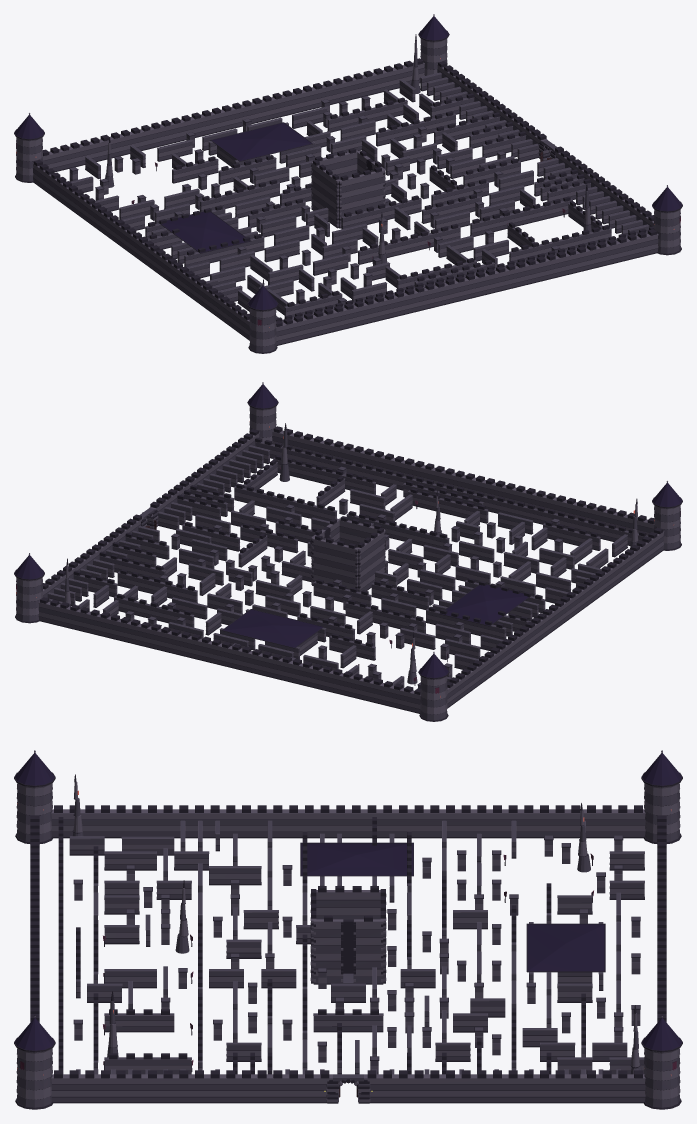
The model's file is castle_cursed.glb.
3 renders of one model, top to bottom at view 1: azimuth 30°, elevation 25°; view 2: azimuth 150°, elevation 25°; view 3: azimuth 270°, elevation 25°, orthographic. The views are drawn at different scales.
Parts seen in each view (by area): view 1: castle_cursed_part_0; view 2: castle_cursed_part_0; view 3: castle_cursed_part_0.
Boxes of the visible parts, x1=… form: castle_cursed_part_0: x1=14, y1=14, x2=682, y2=353; castle_cursed_part_0: x1=14, y1=382, x2=682, y2=721; castle_cursed_part_0: x1=14, y1=750, x2=682, y2=1109.
Size of the model in its own units: 192 by 27.28 by 192.
